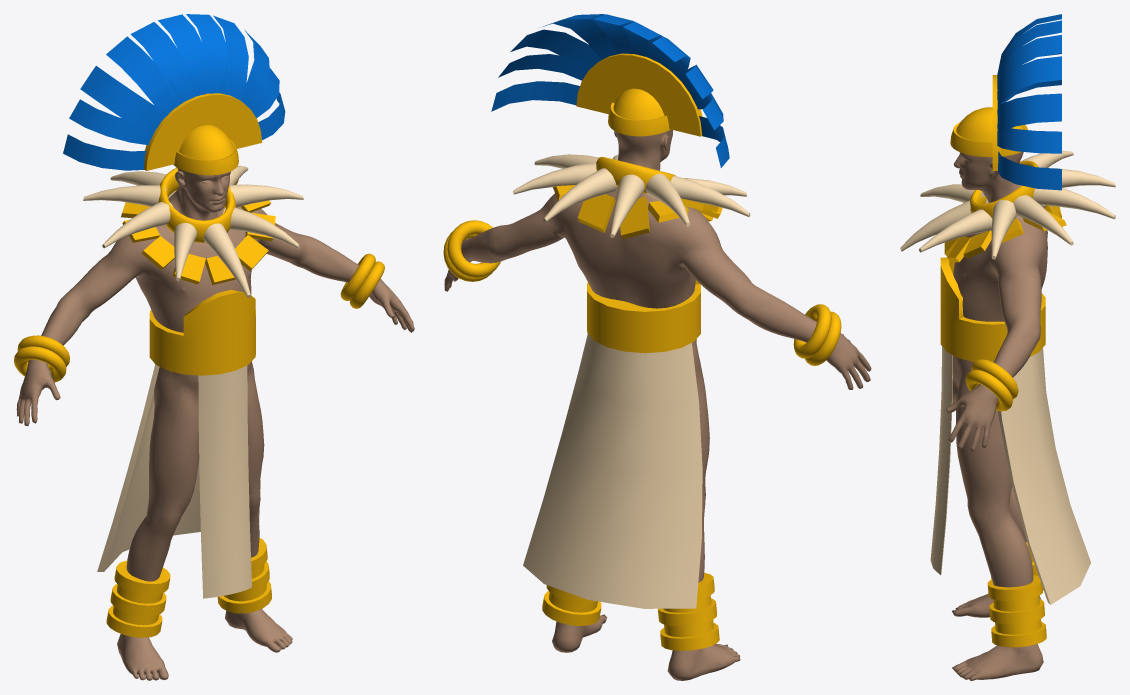
Rendered from SM_Great_Priest.FBX.
3 renders of one model, left to right at view 1: azimuth 30°, elevation 25°; view 2: azimuth 150°, elevation 25°; view 3: azimuth 270°, elevation 25°, orthographic. The views are drawn at different scales.
Visible parts, largest first — view 1: Plane011; view 2: Plane011; view 3: Plane011.
Part boxes in pixels (left/top/right/bottom): Plane011: left=14, top=14, right=414, bottom=680; Plane011: left=443, top=14, right=871, bottom=680; Plane011: left=900, top=14, right=1115, bottom=680.
Size of the model in its own units: 171 by 256 by 80.99.
